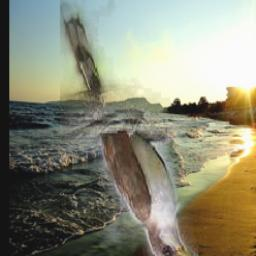Cuckoo: (60, 0, 198, 256)
